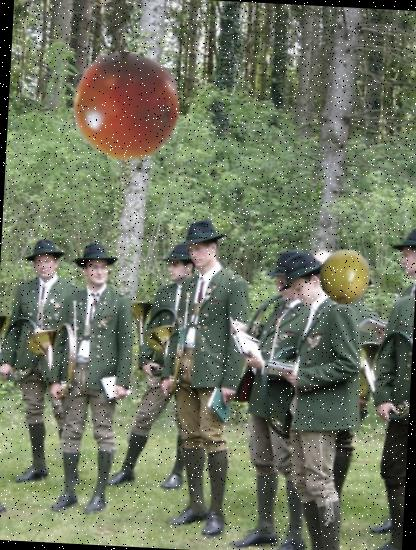Maracuja: (312, 245, 372, 306)
Tomato: (67, 49, 186, 166)
